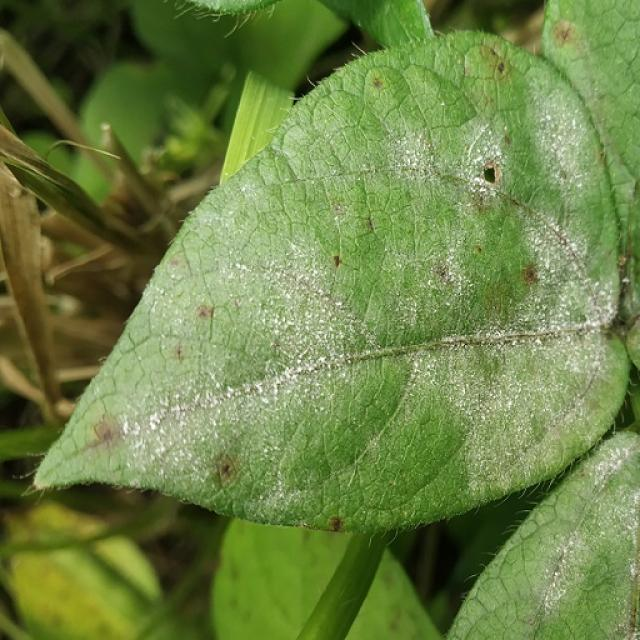Blackgram: (38, 32, 626, 529)
Powdery_Mildew: (101, 159, 606, 462), (128, 315, 611, 398), (120, 356, 282, 482), (329, 203, 477, 333), (440, 333, 585, 465), (525, 458, 633, 631), (250, 250, 360, 401), (485, 182, 606, 317), (569, 72, 638, 291), (309, 327, 594, 365), (531, 234, 614, 360), (243, 284, 350, 381), (96, 311, 204, 400), (219, 379, 315, 479), (267, 162, 560, 191), (141, 249, 229, 343), (532, 93, 607, 200), (240, 259, 319, 327), (574, 437, 634, 508), (388, 124, 460, 182), (532, 549, 582, 630), (260, 345, 350, 387), (146, 375, 213, 430), (563, 356, 607, 422), (454, 327, 584, 349), (280, 166, 392, 180), (332, 197, 346, 279), (467, 172, 499, 197), (206, 301, 216, 342), (146, 411, 164, 432), (334, 299, 344, 308), (622, 276, 631, 284)
